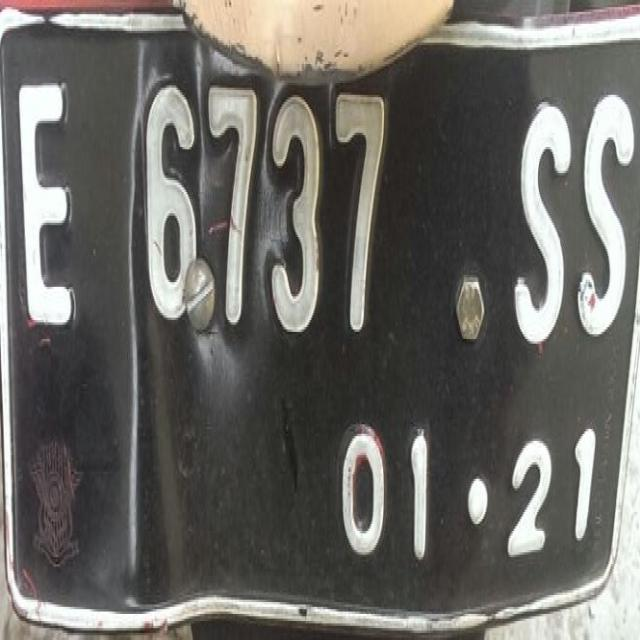plate: (0, 2, 639, 628)
